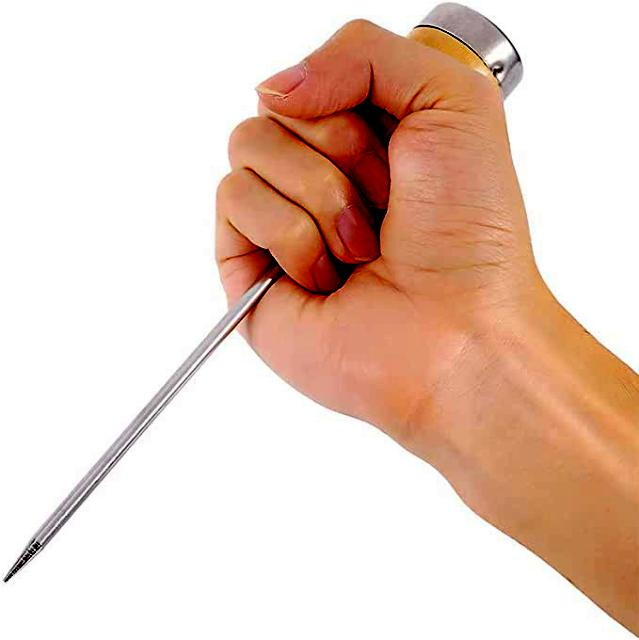ice pick: (2, 1, 524, 582)
